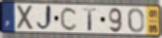9: (108, 7, 124, 34)
C: (60, 6, 79, 32)
J: (35, 4, 54, 33)
O: (127, 7, 146, 34)
T: (82, 7, 98, 32)
X: (16, 4, 36, 32)
